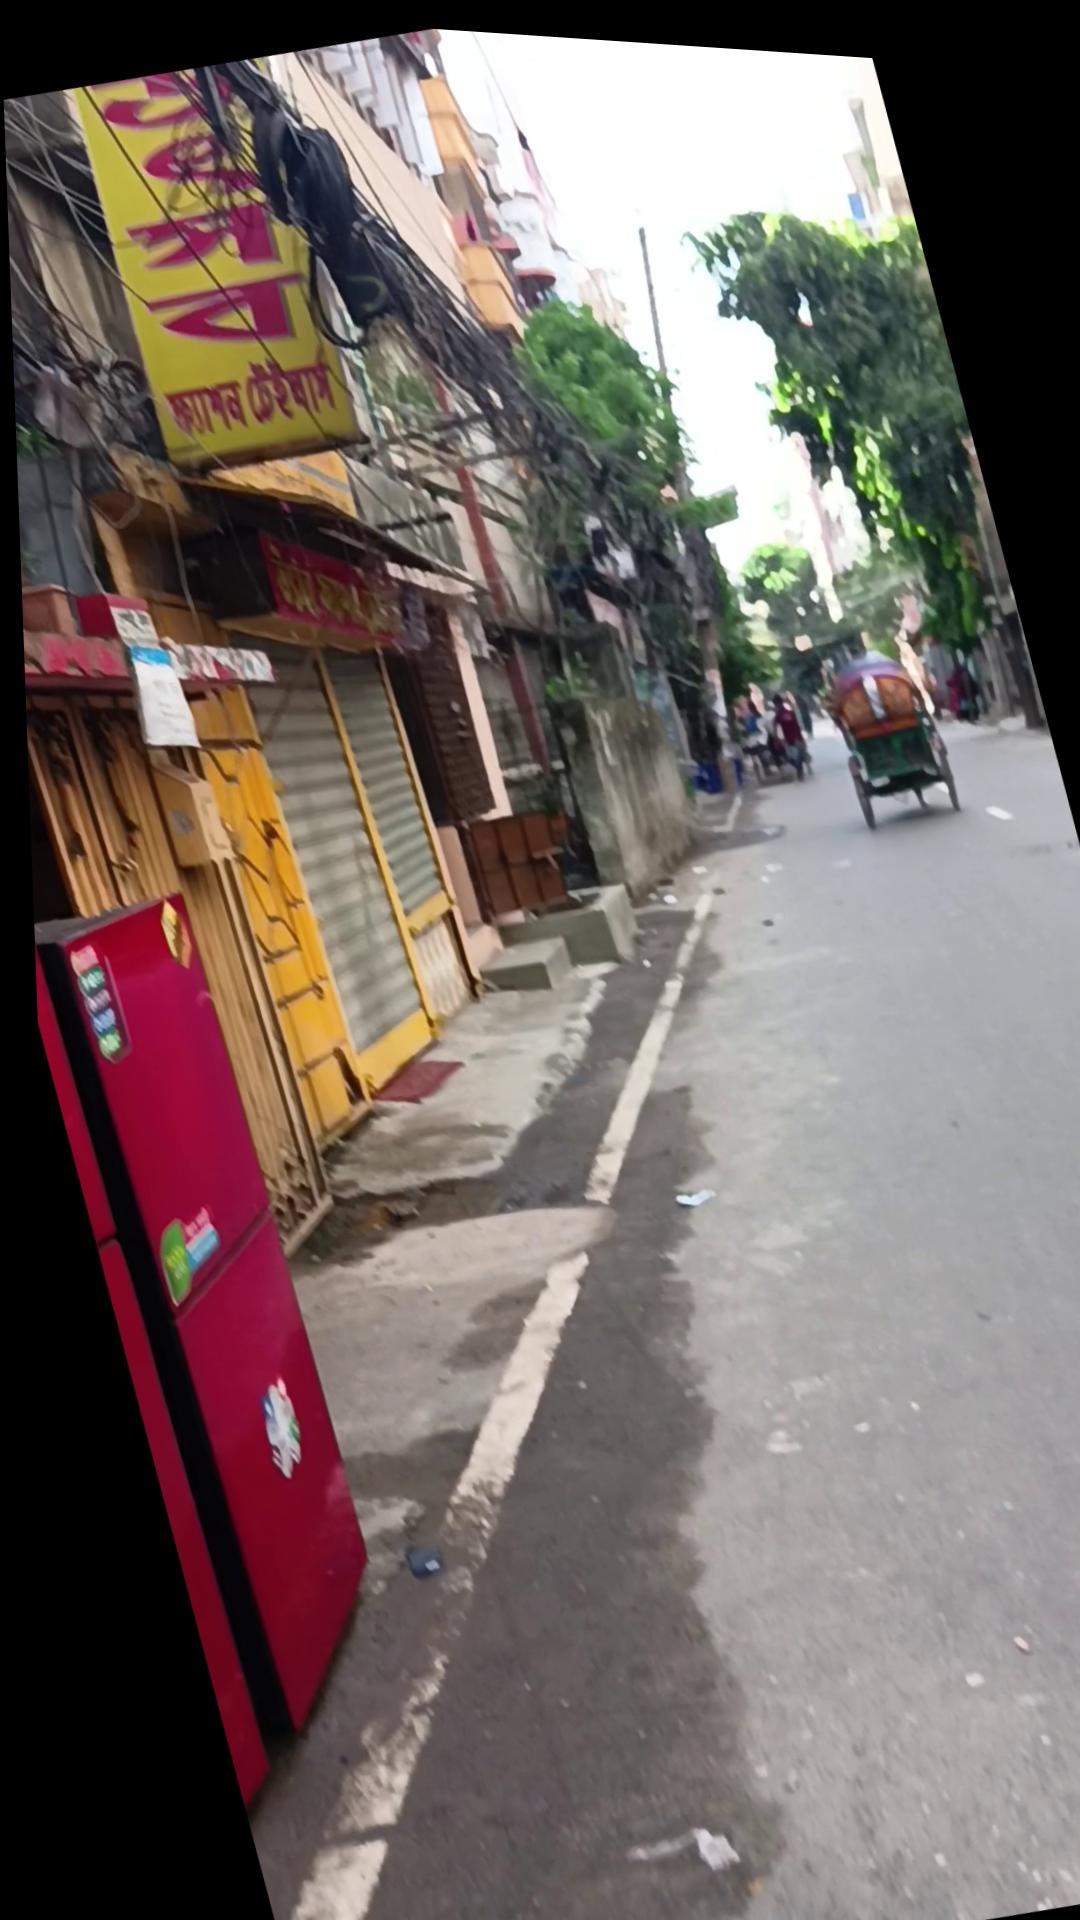Crosswalk: (25, 874, 402, 1762)
Dog: (578, 212, 785, 783)
Fallen-tree: (16, 535, 82, 659), (495, 749, 572, 852), (530, 650, 605, 742)
Fence: (807, 624, 960, 825)
Light-pole: (670, 154, 1038, 745)
